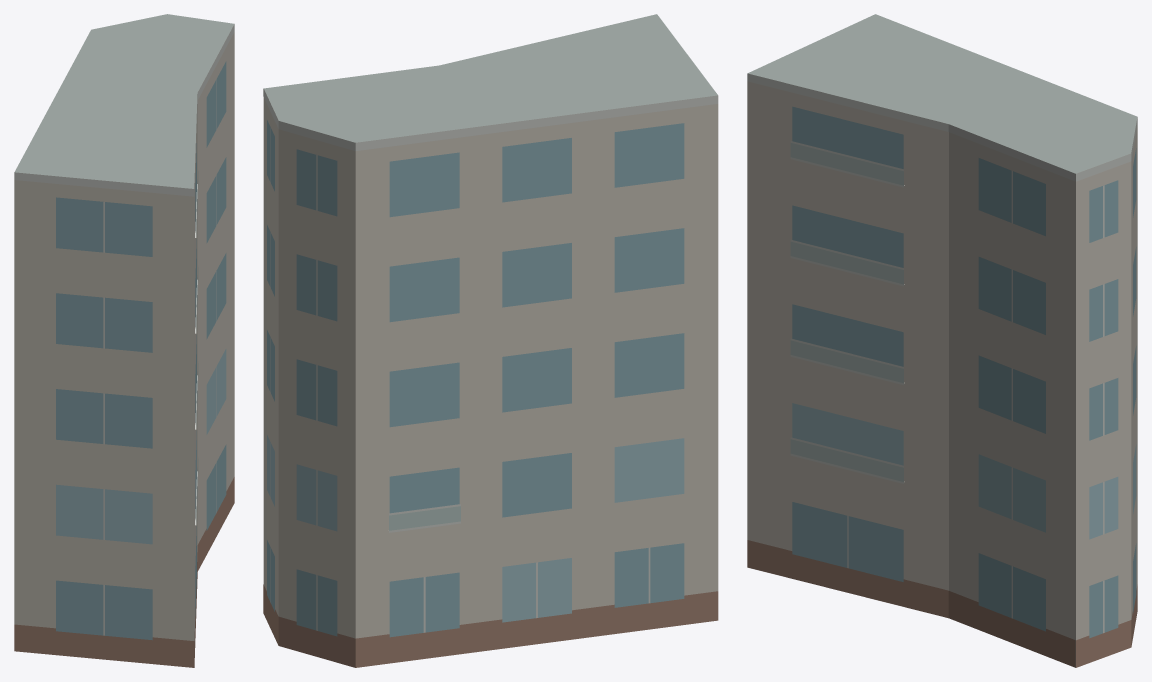
Rendered from survey-upis-33039620.glb.
3 views of the same model, side by side, from view 1: azimuth 30°, elevation 25°; view 2: azimuth 150°, elevation 25°; view 3: azimuth 270°, elevation 25° (orthographic). The views are drawn at different scales.
Parts seen in each view (by area): view 1: survey-upis-33039620.tmp; view 2: survey-upis-33039620.tmp; view 3: survey-upis-33039620.tmp.
Boxes of the visible parts, bbox=[...] form: survey-upis-33039620.tmp: bbox=[14, 14, 234, 667]; survey-upis-33039620.tmp: bbox=[263, 14, 718, 667]; survey-upis-33039620.tmp: bbox=[747, 14, 1137, 667].
Bounding box in the file's own units: 10.55 × 15.2 × 10.89.
